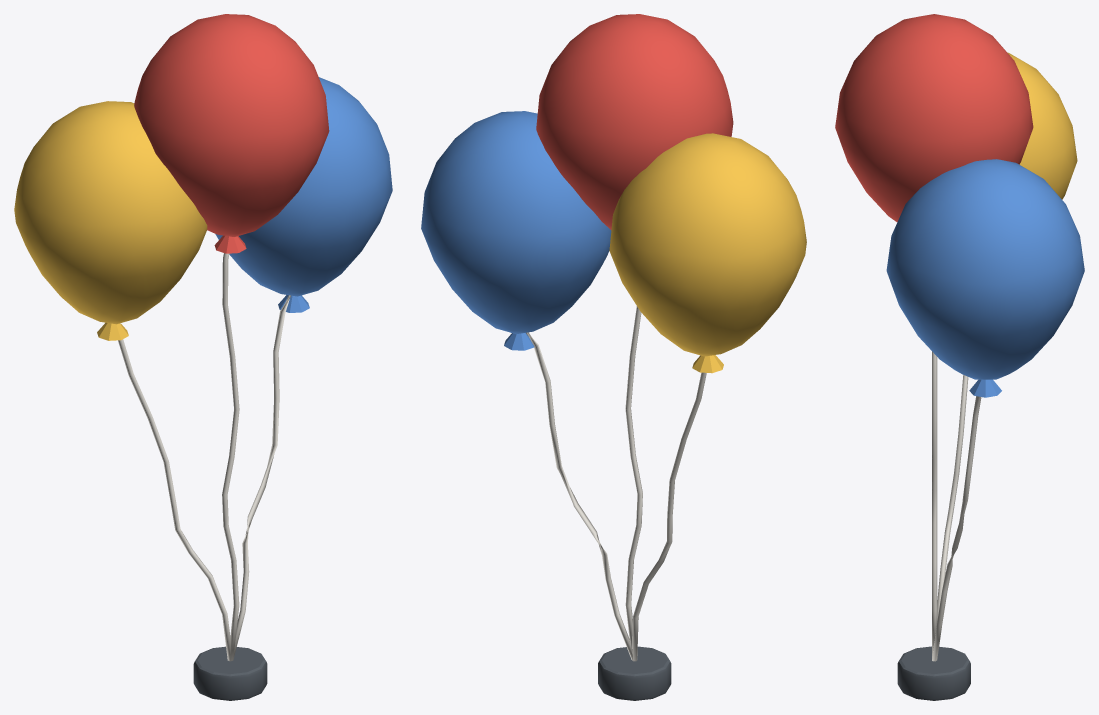
Rendered from balao.glb.
3 views of the same model, side by side, from view 1: azimuth 30°, elevation 25°; view 2: azimuth 150°, elevation 25°; view 3: azimuth 270°, elevation 25° (orthographic).
Visible parts, largest first — view 1: balao; view 2: balao; view 3: balao.
Boxes of the visible parts, bbox=[...] form: balao: bbox=[14, 14, 392, 700]; balao: bbox=[421, 14, 806, 700]; balao: bbox=[835, 14, 1084, 700].
Bounding box in the file's own units: 1.12 × 2 × 0.68.
